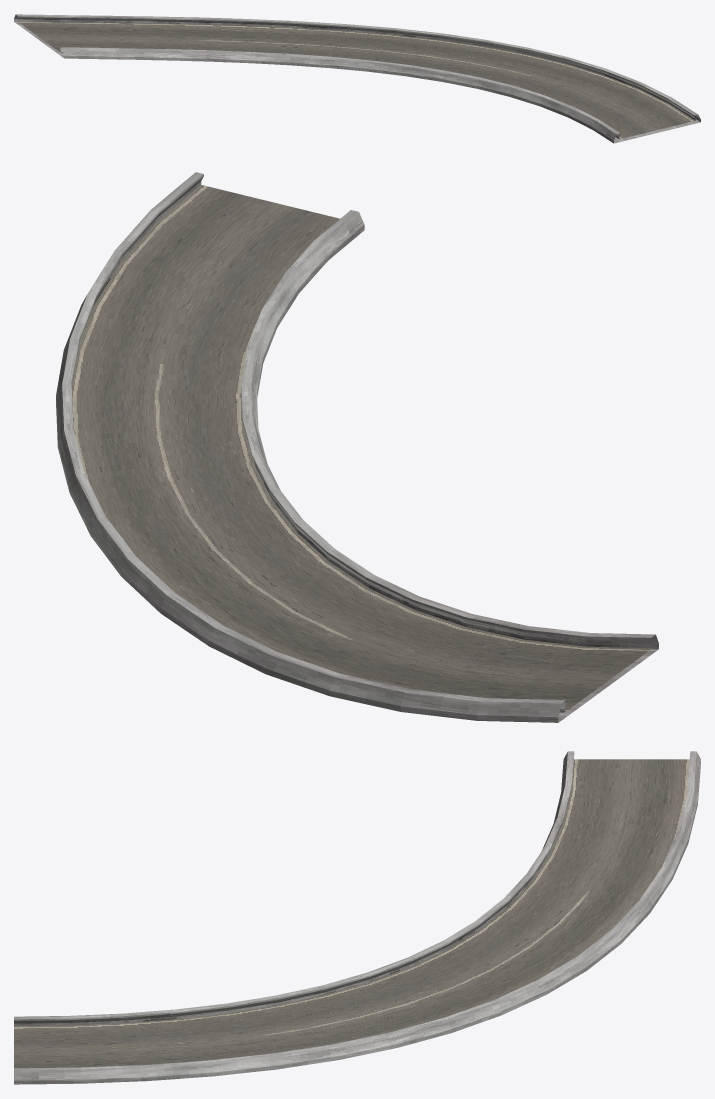
Rendered from turn-left5x5.glb.
3 views of the same model, one above another, from view 1: azimuth 30°, elevation 25°; view 2: azimuth 150°, elevation 25°; view 3: azimuth 270°, elevation 25° (orthographic). The views are drawn at different scales.
Parts seen in each view (by area): view 1: road-Turn-Flat-BiSlopeUp-Up1-Left-Size5; view 2: road-Turn-Flat-BiSlopeUp-Up1-Left-Size5; view 3: road-Turn-Flat-BiSlopeUp-Up1-Left-Size5.
Boxes of the visible parts, left/top/right/bottom form: road-Turn-Flat-BiSlopeUp-Up1-Left-Size5: left=14, top=14, right=700, bottom=143; road-Turn-Flat-BiSlopeUp-Up1-Left-Size5: left=56, top=172, right=658, bottom=722; road-Turn-Flat-BiSlopeUp-Up1-Left-Size5: left=14, top=751, right=700, bottom=1084.
Size of the model in its own units: 5 by 0.482 by 5.
Materials: 2 (2 with a texture image).
